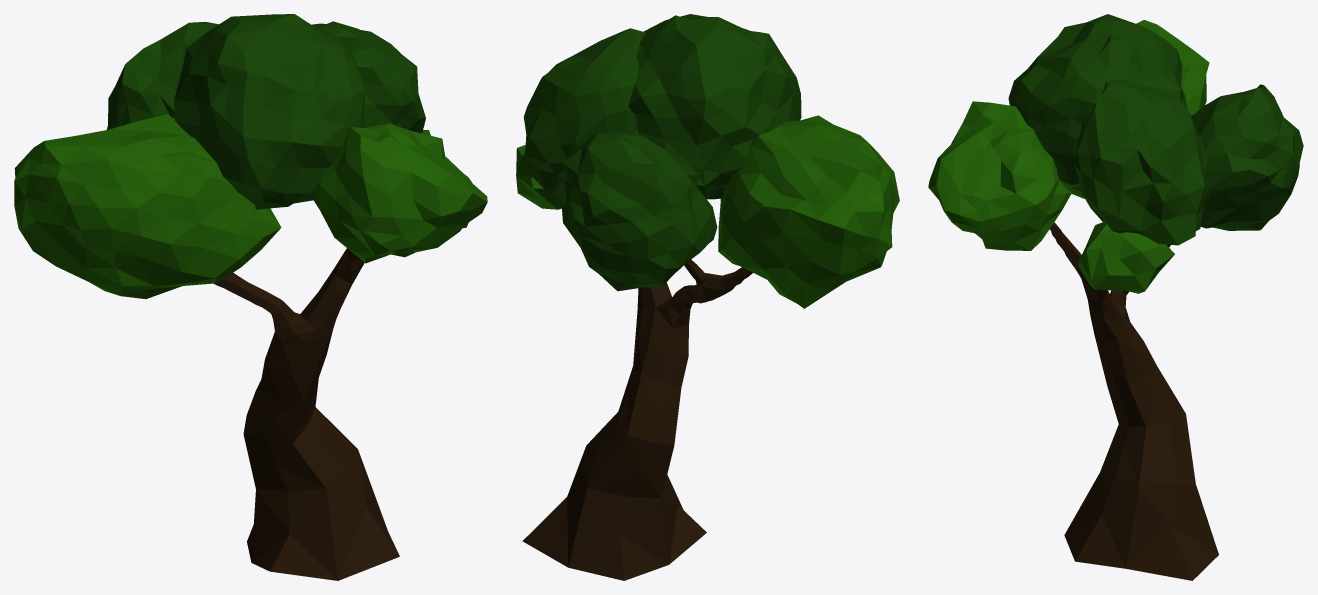
The model's file is common_tree_1.glb.
3 views of the same model, side by side, from view 1: azimuth 30°, elevation 25°; view 2: azimuth 150°, elevation 25°; view 3: azimuth 270°, elevation 25° (orthographic). The views are drawn at different scales.
Visible parts, largest first — view 1: common_tree_1_leaves, common_tree_1_leaves_dark, common_tree_1_trunk; view 2: common_tree_1_leaves_dark, common_tree_1_trunk, common_tree_1_leaves; view 3: common_tree_1_leaves_dark, common_tree_1_trunk, common_tree_1_leaves.
Part boxes in pixels (<box>): common_tree_1_leaves: <box>14,114,487,299</box>; common_tree_1_leaves_dark: <box>107,14,425,209</box>; common_tree_1_trunk: <box>214,248,399,580</box>; common_tree_1_leaves_dark: <box>517,14,801,291</box>; common_tree_1_trunk: <box>522,259,752,580</box>; common_tree_1_leaves: <box>516,115,899,308</box>; common_tree_1_leaves_dark: <box>1008,14,1303,245</box>; common_tree_1_trunk: <box>1050,222,1218,580</box>; common_tree_1_leaves: <box>928,20,1209,293</box>.
Bounding box in the file's own units: 4.72 × 6.26 × 4.25.
